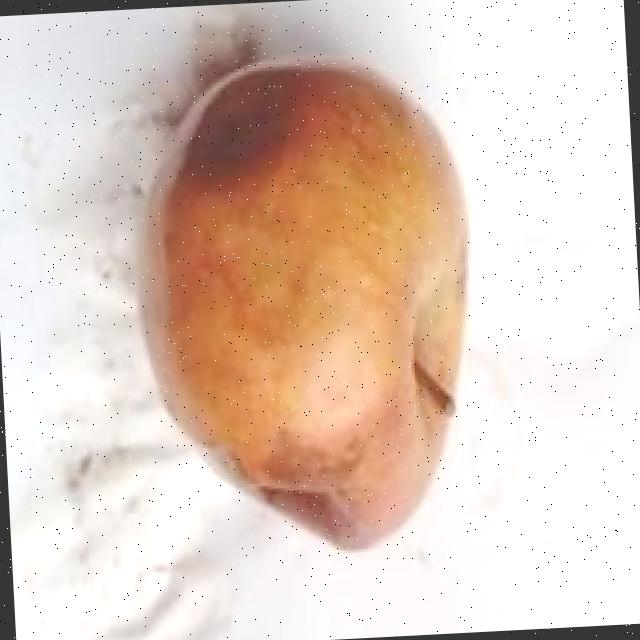rotten apple: (61, 0, 527, 598)
